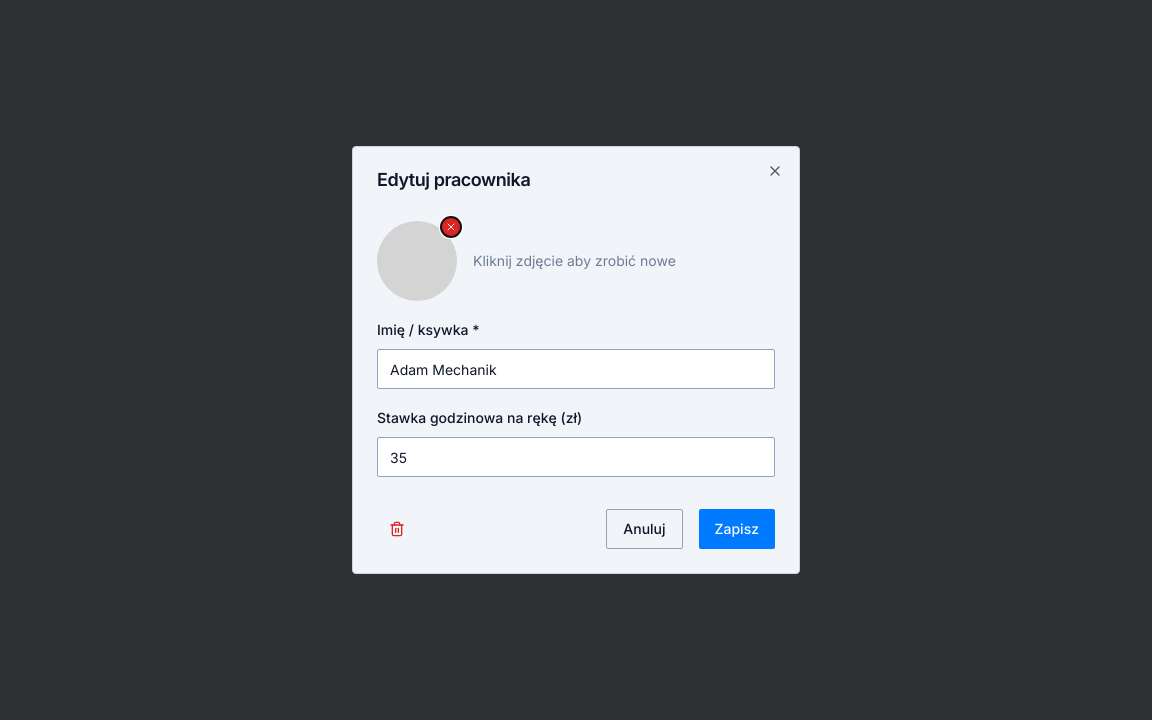
AddEditEmployeeDialog — delete employee › shows confirmation dialog before deleting
Click the 3rd button at coordinates (397, 529), box top-left (377, 509), bottom-right (417, 549)
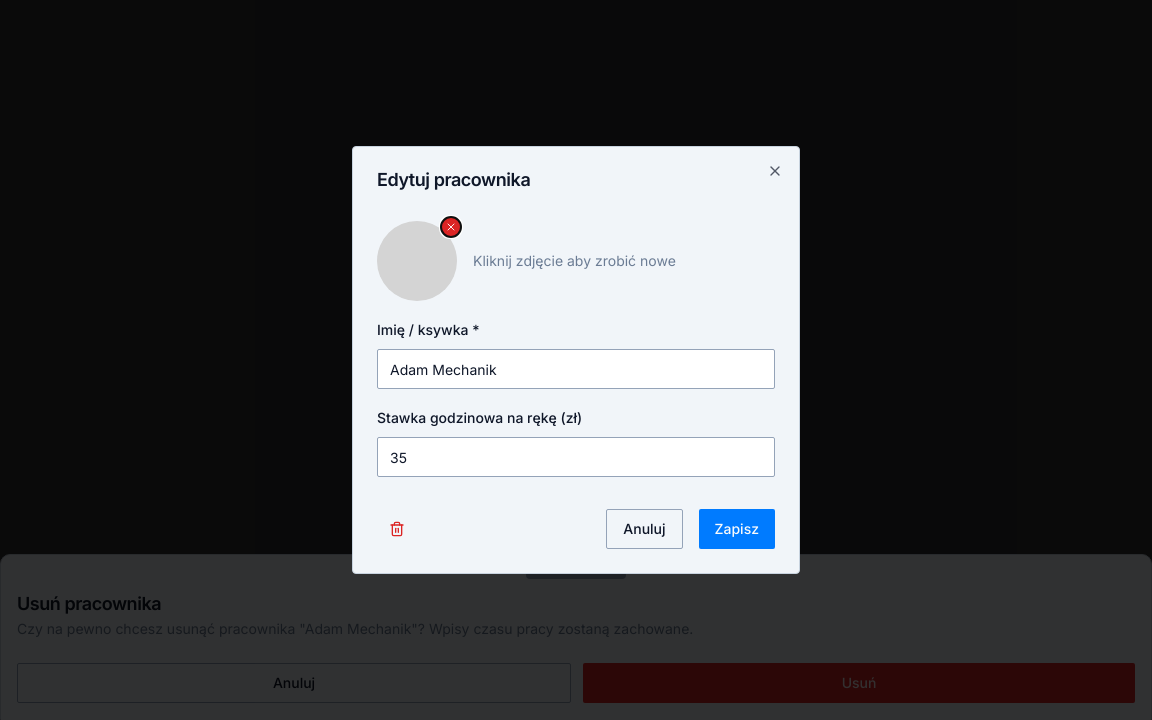
Expected: the heading "Usuń pracownika" is shown, top-left (17, 593), bottom-right (161, 614)
Expected: the text "Czy na pewno chcesz usunąć pracownika \"Adam Mechanik\"" is shown, top-left (17, 620), bottom-right (693, 637)
